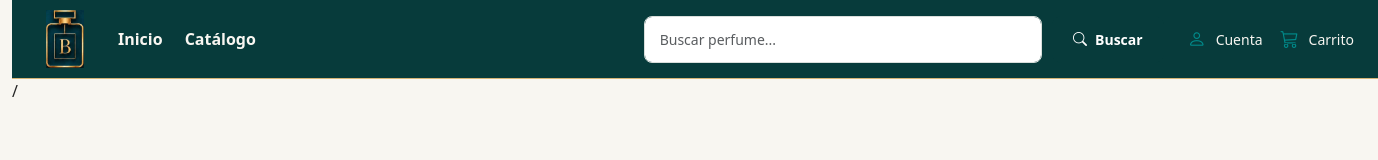
Test case: Header Component › navega al catálogo al buscar un producto
Type "Polo Blue" into the search field with placeholder "Buscar perfume...". click: (843, 39)
box: [644,16,1042,62]
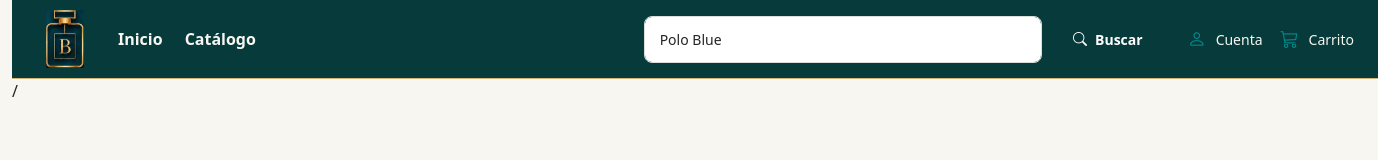
Submit the form, box [644,16,1164,62]
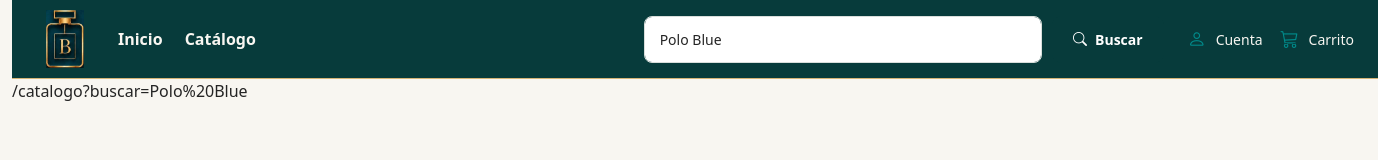
Check: the text with test id "ubicacion" reads "/catalogo?buscar=Polo%20Blue", box [12,80,248,102]
